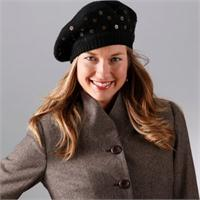hat: (54, 0, 137, 63)
